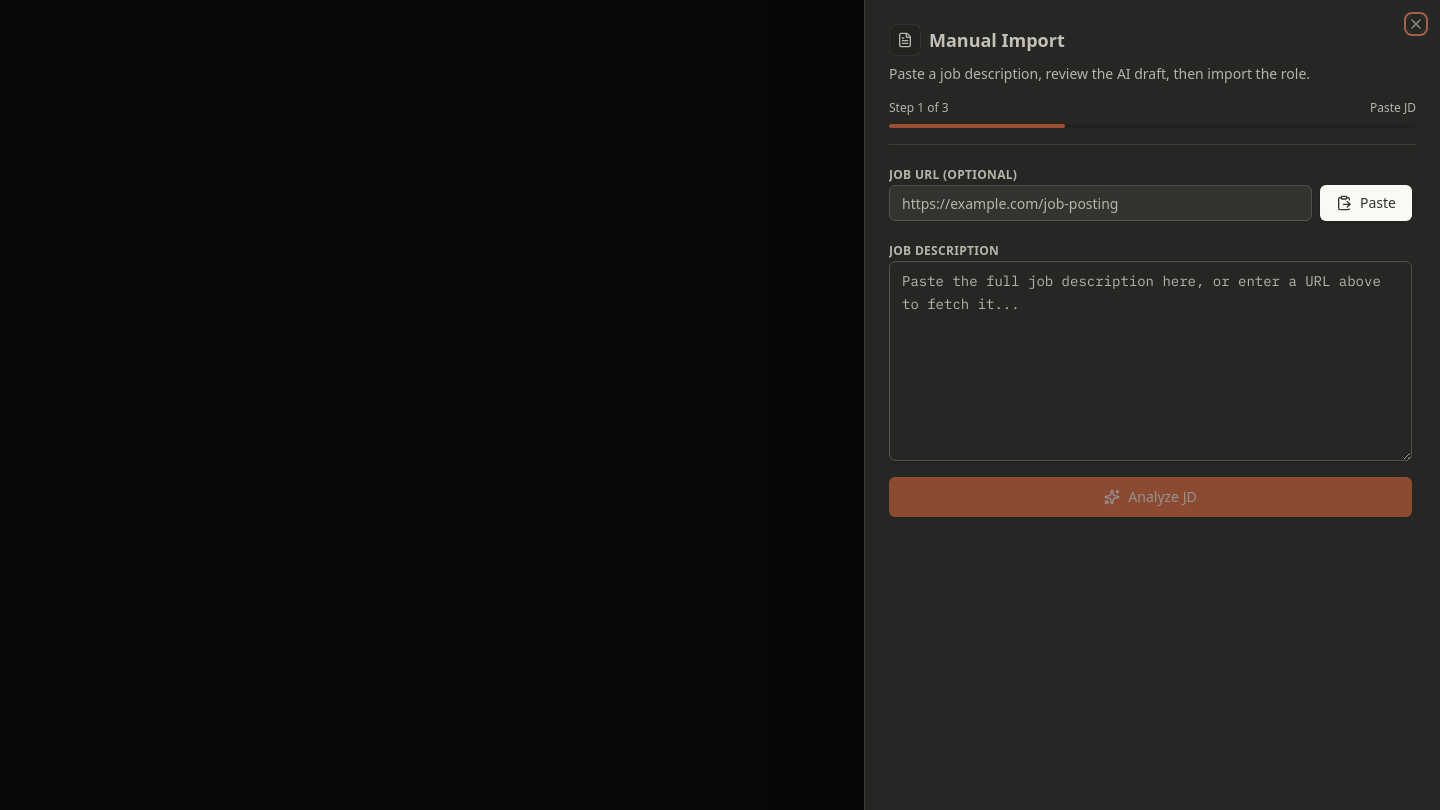
Test: ManualImportSheet › URL fetch functionality › shows error and returns to paste step when fetch fails
Type "https://example.com/bad-url" into the field with placeholder "https://example.com/job-posting" at (1100,203), box [889,185,1312,221]
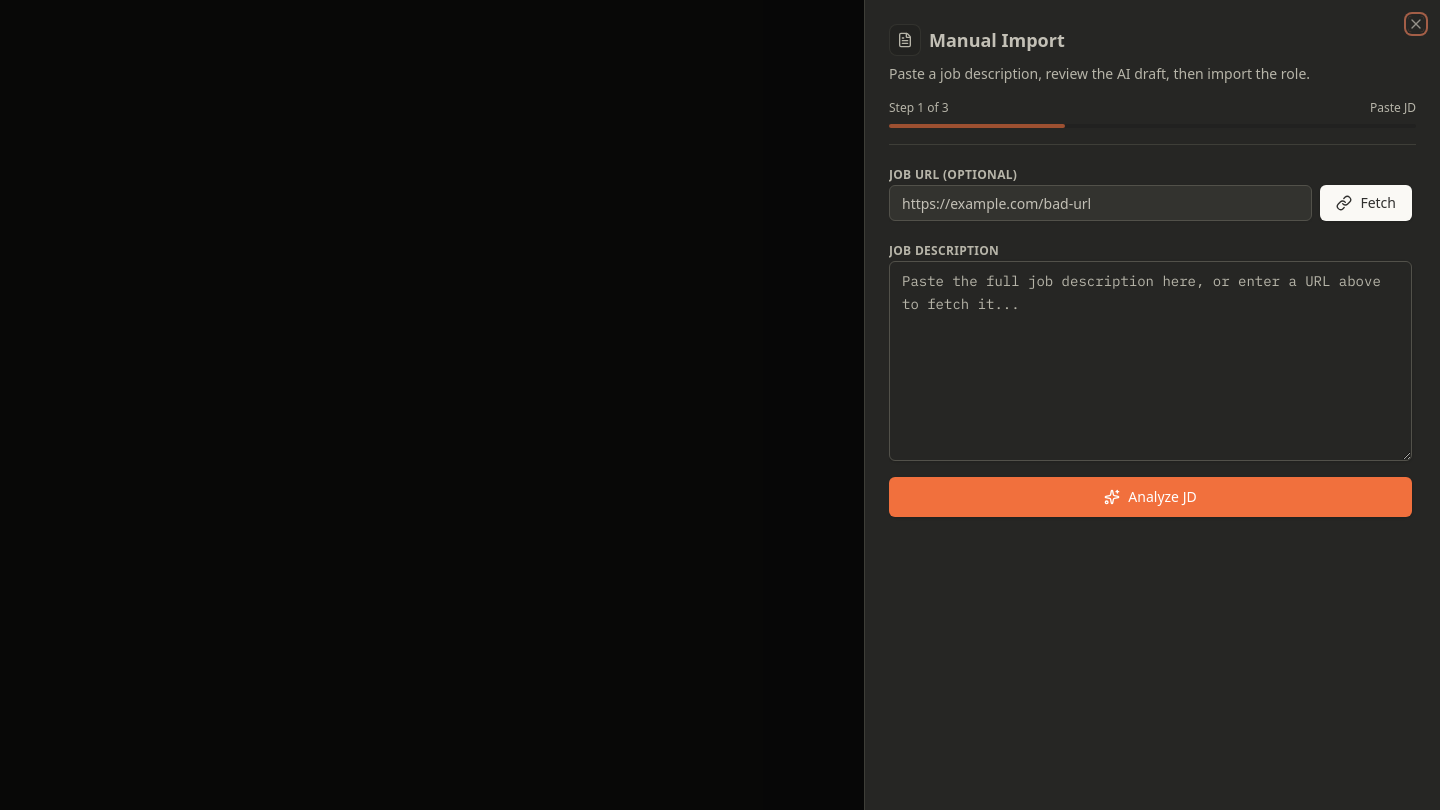
Click the button "Fetch" at (1366,203), box [1320,185,1412,221]
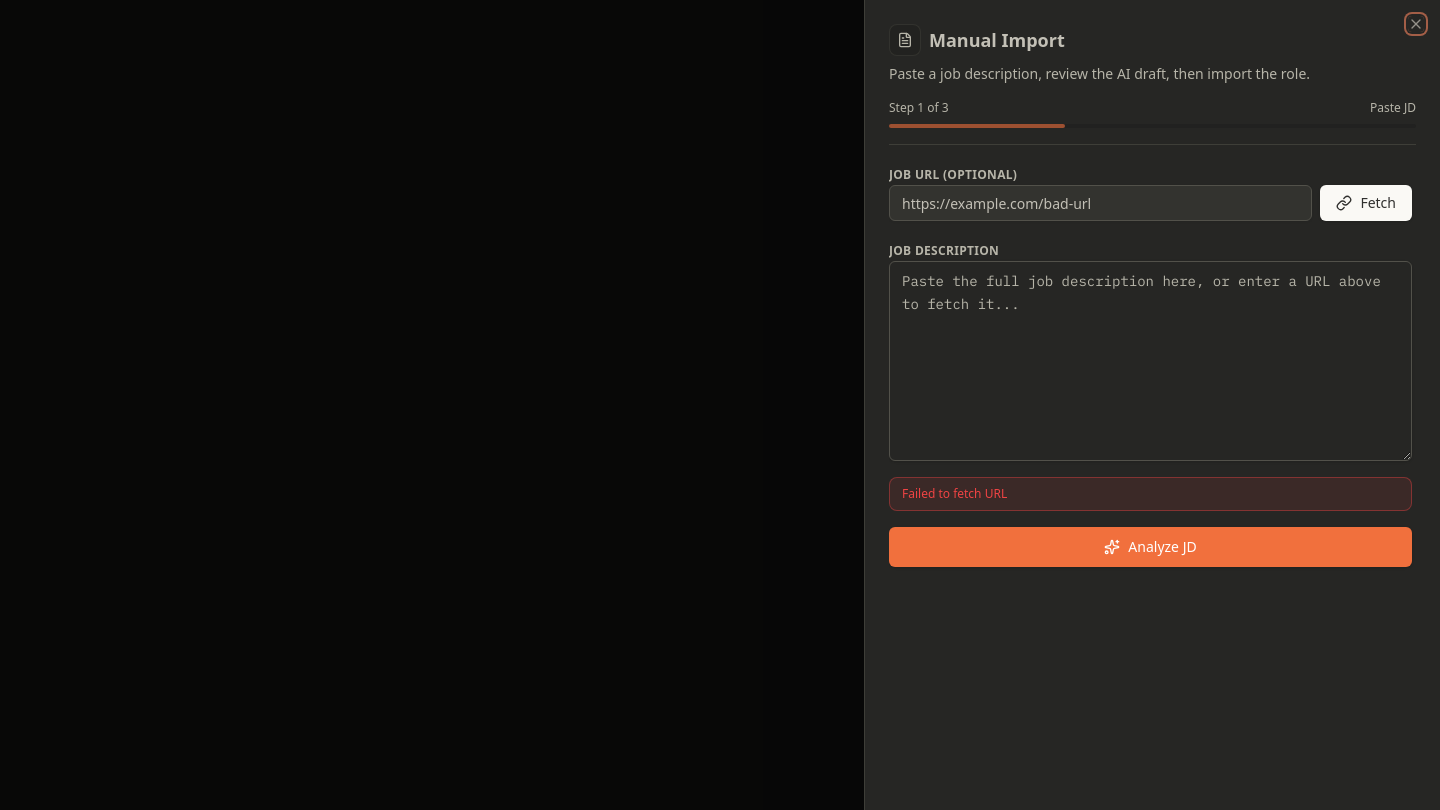
Expected: the text box with placeholder "Paste the full job description here, or enter a URL above to fetch it..." is shown, [889,261,1412,461]
Expected: the text "Failed to fetch URL" is shown, [889,477,1412,511]
